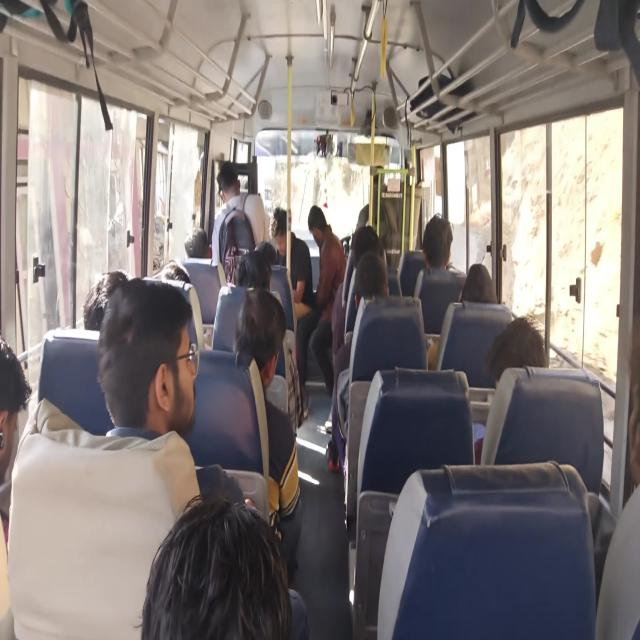person: (144, 496, 405, 640), (110, 294, 217, 415), (494, 322, 551, 396), (246, 302, 297, 383), (0, 338, 27, 474), (348, 256, 395, 318), (457, 263, 510, 313), (93, 268, 132, 310), (227, 266, 276, 299), (304, 199, 338, 243), (214, 149, 242, 199), (419, 223, 456, 259), (348, 227, 386, 260), (162, 248, 188, 290), (190, 225, 218, 263), (252, 236, 280, 266), (272, 204, 290, 240)
